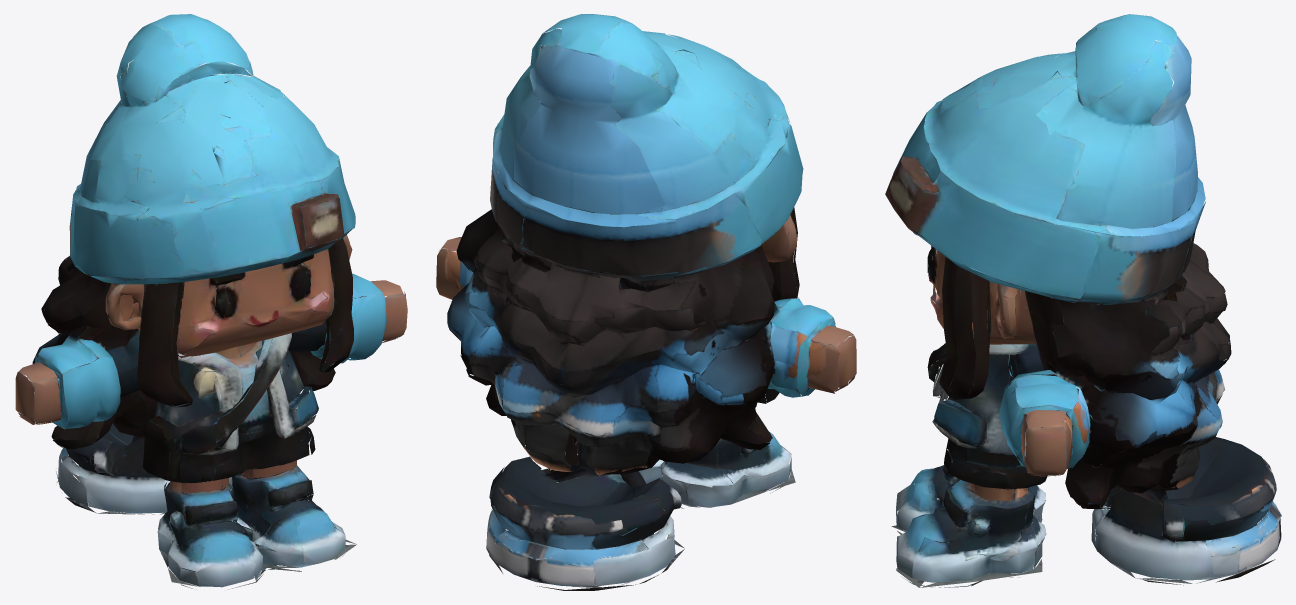
File: zen_trellis_v1.glb
3 views of the same model, side by side, from view 1: azimuth 30°, elevation 25°; view 2: azimuth 150°, elevation 25°; view 3: azimuth 270°, elevation 25° (orthographic). The views are drawn at different scales.
Parts seen in each view (by area): view 1: Body; view 2: Body; view 3: Body.
Part boxes in pixels (bbox=[...]): Body: bbox=[15, 14, 407, 589]; Body: bbox=[436, 14, 856, 590]; Body: bbox=[885, 14, 1281, 587].
Bounding box in the file's own units: 0.6 × 0.72 × 0.4889.
Materials: 1 (1 with a texture image).
